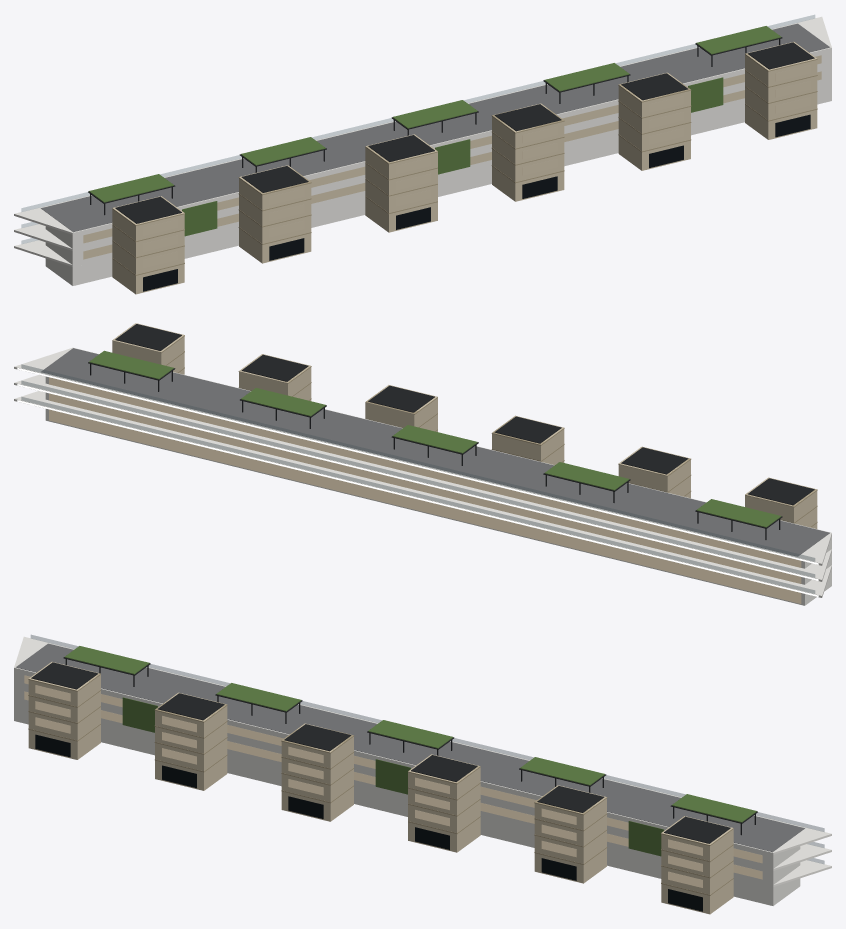
File: jed_team.glb
3 renders of one model, top to bottom at view 1: azimuth 30°, elevation 25°; view 2: azimuth 150°, elevation 25°; view 3: azimuth 330°, elevation 25°, orthographic.
Visible parts, largest first — view 1: jeddah-team-building; view 2: jeddah-team-building; view 3: jeddah-team-building.
Part boxes in pixels (left/top/right/bottom): jeddah-team-building: left=14, top=15, right=831, bottom=294; jeddah-team-building: left=14, top=323, right=831, bottom=605; jeddah-team-building: left=14, top=635, right=831, bottom=914.
Size of the model in its own units: 231 by 19.1 by 29.12.
